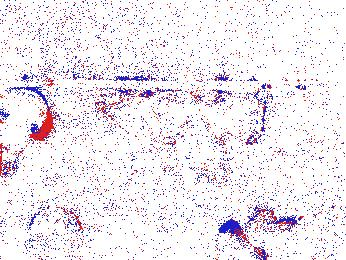flame jellyfish: (1, 88, 53, 178), (215, 206, 298, 260), (27, 206, 86, 260)
